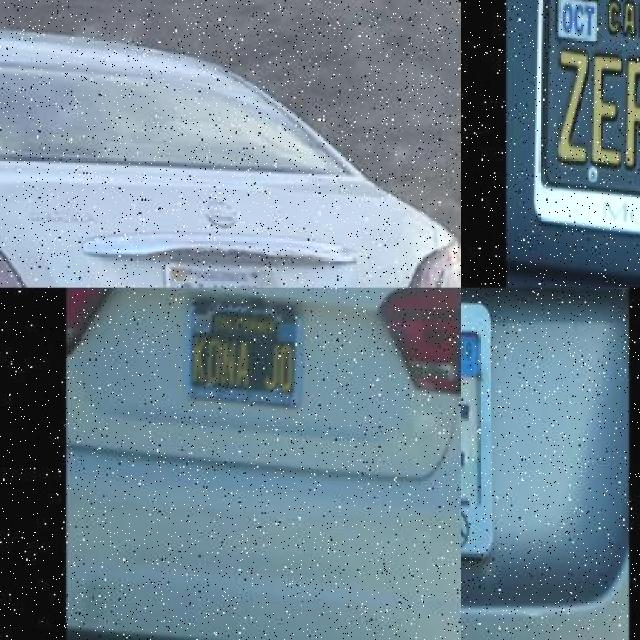licenseplate: (460, 287, 605, 558), (534, 0, 640, 248), (189, 288, 300, 402), (163, 259, 280, 288)
